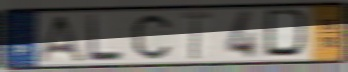4: (224, 7, 260, 62)
A: (33, 13, 88, 64)
C: (130, 13, 172, 61)
D: (263, 8, 313, 61)
L: (86, 13, 125, 63)
T: (179, 10, 214, 62)
